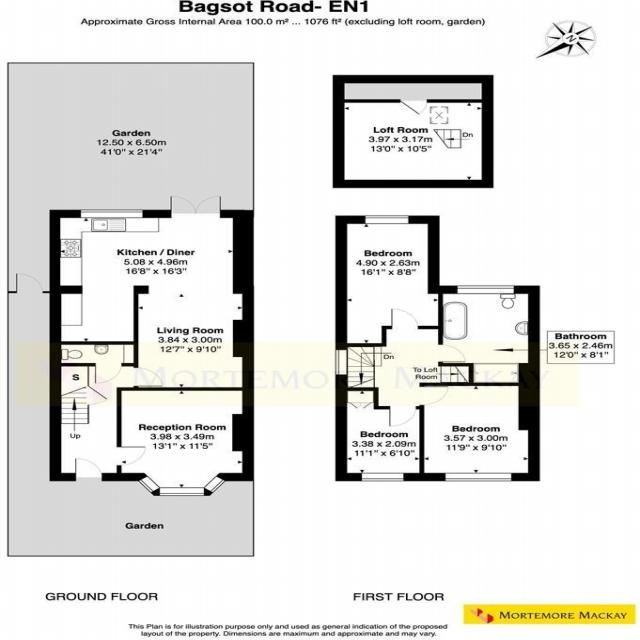DOOR: (436, 341, 471, 364), (72, 456, 104, 481), (92, 363, 125, 386), (419, 385, 453, 406), (388, 307, 419, 330), (116, 445, 148, 467), (133, 366, 165, 388), (387, 406, 418, 428)
DOUBLE DOOR: (165, 191, 224, 218)
ROOM: (50, 190, 254, 392), (116, 387, 254, 496), (419, 363, 540, 482), (334, 215, 442, 347), (335, 386, 425, 481)
WINDOW: (135, 473, 229, 498), (444, 471, 513, 483), (455, 283, 518, 296), (78, 207, 144, 219), (364, 214, 410, 225), (360, 471, 405, 482), (334, 348, 350, 377)
